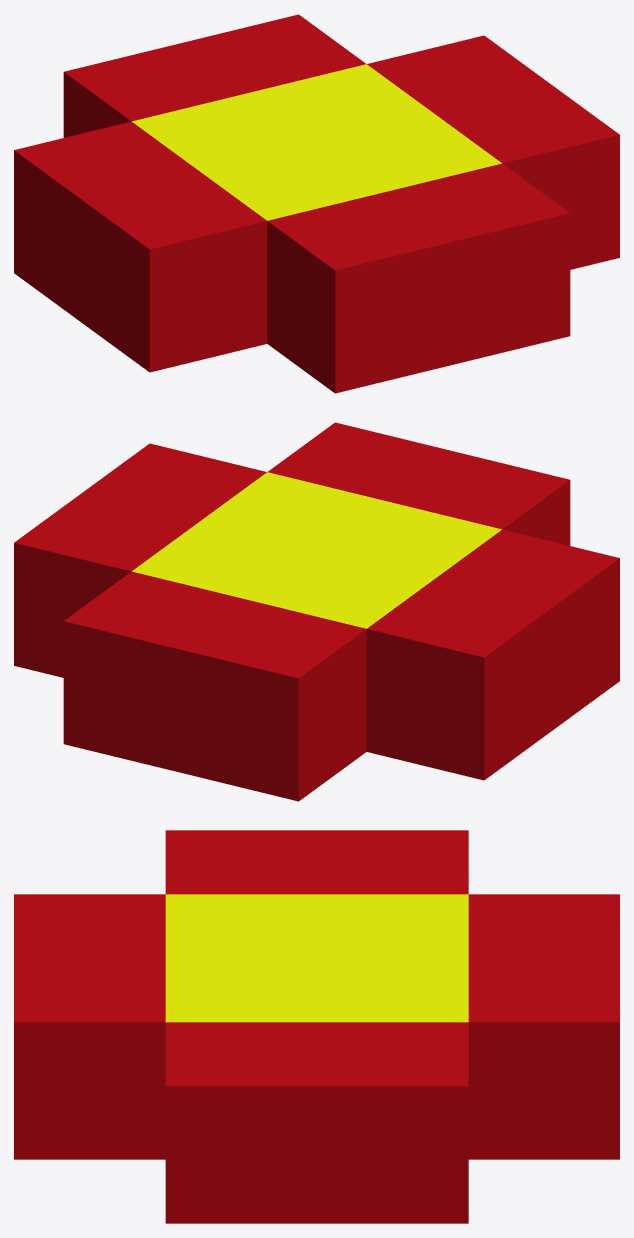
Rendered from red_flower.obj.
3 renders of one model, top to bottom at view 1: azimuth 30°, elevation 25°; view 2: azimuth 150°, elevation 25°; view 3: azimuth 270°, elevation 25°, orthographic. The views are drawn at different scales.
Bounding box in the file's own units: 0.4 × 0.1 × 0.4.
Materials: 1 (1 with a texture image).
